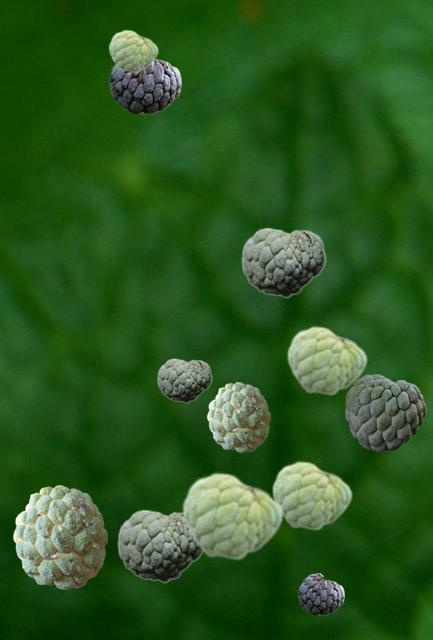atis: (13, 485, 106, 588), (181, 471, 282, 560), (117, 509, 202, 582), (345, 374, 425, 450), (241, 227, 325, 297), (286, 325, 366, 395), (271, 460, 351, 530), (207, 382, 269, 451), (109, 59, 180, 113), (157, 358, 211, 402), (108, 29, 157, 72), (298, 573, 343, 614)
